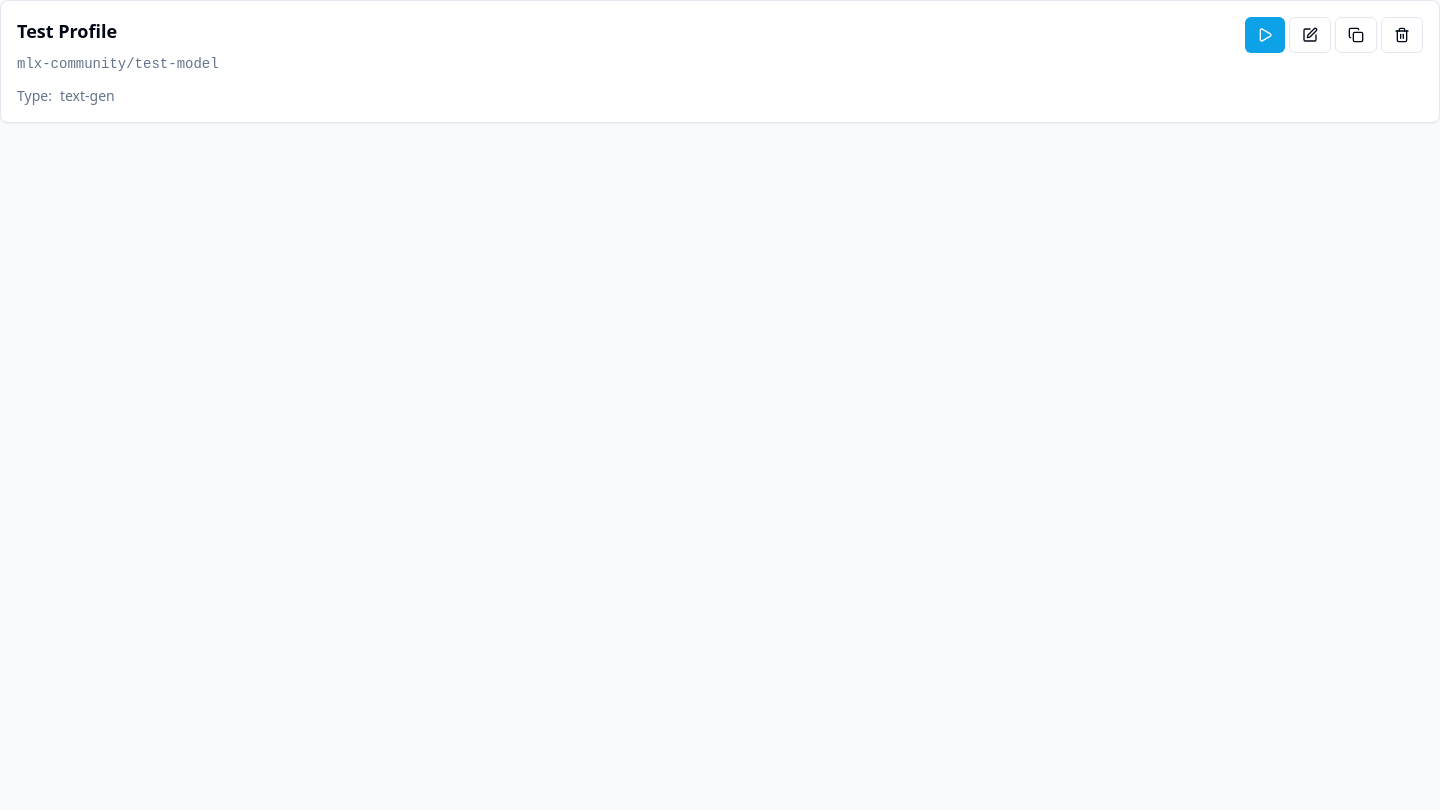
Test: ProfileCard › delete action › shows confirmation dialog when Delete clicked
Click the button titled "Delete" at (1402, 35), box [1381, 17, 1423, 53]
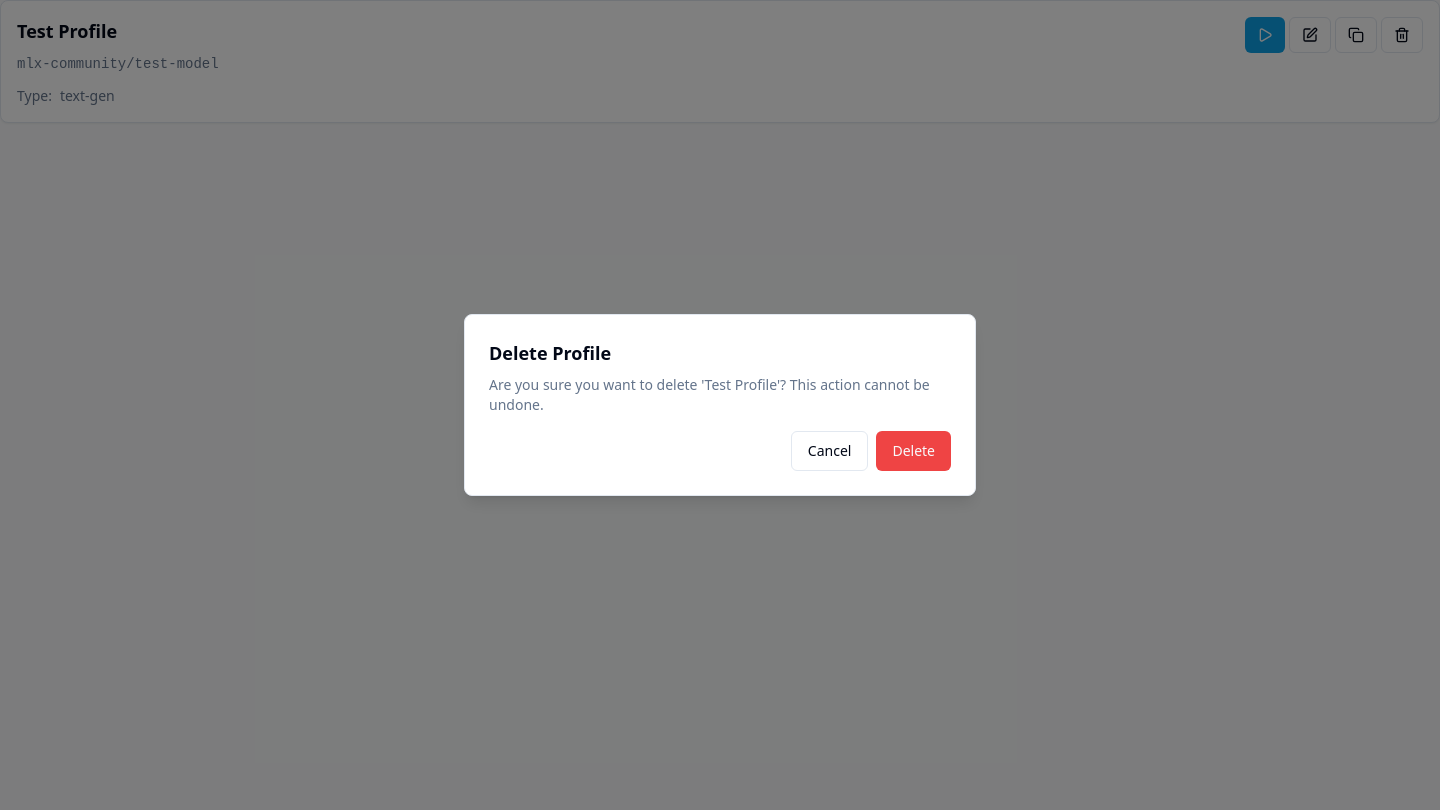
Expected: the heading "Delete Profile" is shown, [489, 341, 611, 365]
